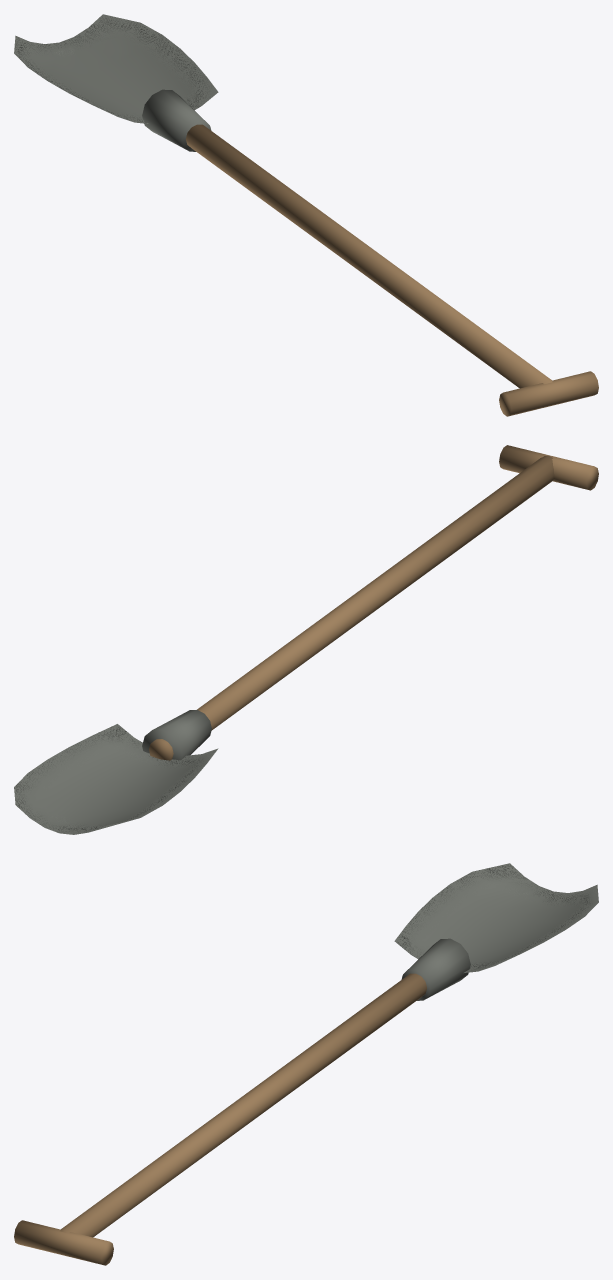
Rendered from shovel.glb.
3 renders of one model, top to bottom at view 1: azimuth 30°, elevation 25°; view 2: azimuth 150°, elevation 25°; view 3: azimuth 330°, elevation 25°, orthographic.
Parts seen in each view (by area): view 1: Shovel; view 2: Shovel; view 3: Shovel.
Boxes of the visible parts, <box> form: Shovel: <box>14,14,598,416</box>; Shovel: <box>14,445,598,834</box>; Shovel: <box>14,863,598,1265</box>.
Bounding box in the file's own units: 0.2 × 0.06 × 1.28.
